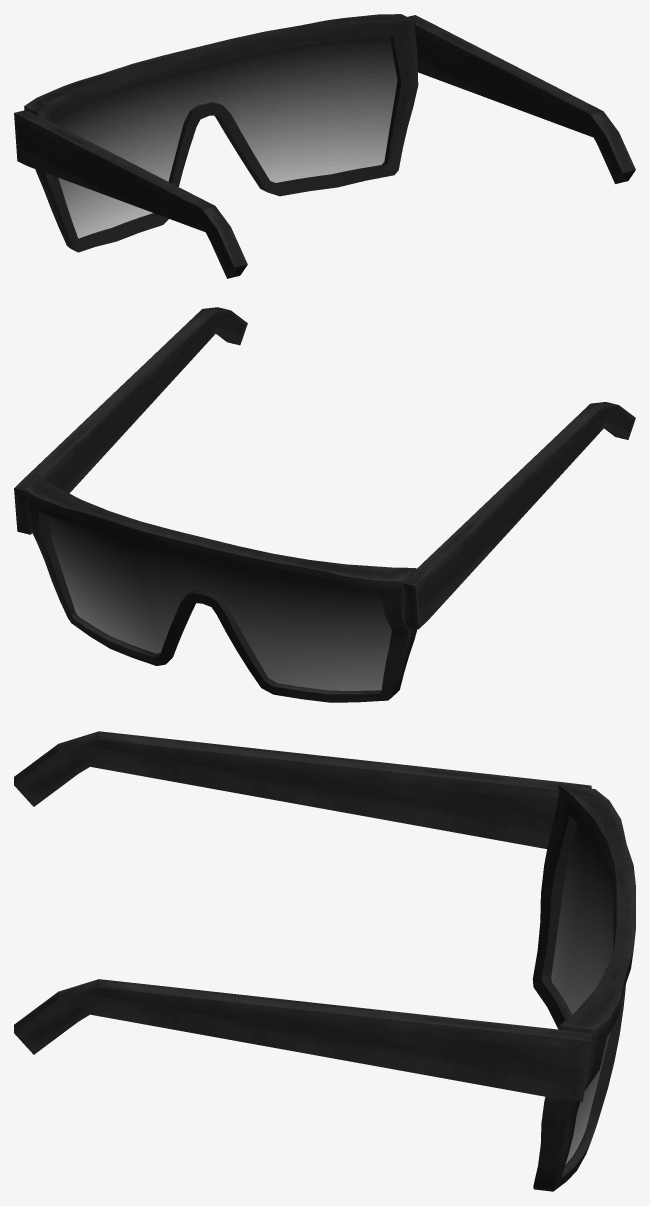
The model's file is sunglasses.glb.
3 views of the same model, one above another, from view 1: azimuth 30°, elevation 25°; view 2: azimuth 150°, elevation 25°; view 3: azimuth 270°, elevation 25° (orthographic). The views are drawn at different scales.
Visible parts, largest first — view 1: cosmetic_sunglasses; view 2: cosmetic_sunglasses; view 3: cosmetic_sunglasses.
Part boxes in pixels (left/top/right/bottom): cosmetic_sunglasses: left=14, top=14, right=635, bottom=278; cosmetic_sunglasses: left=14, top=307, right=635, bottom=702; cosmetic_sunglasses: left=14, top=731, right=635, bottom=1191.
Bounding box in the file's own units: 0.4153 × 0.1825 × 0.426.
1 material, 1 textured.
